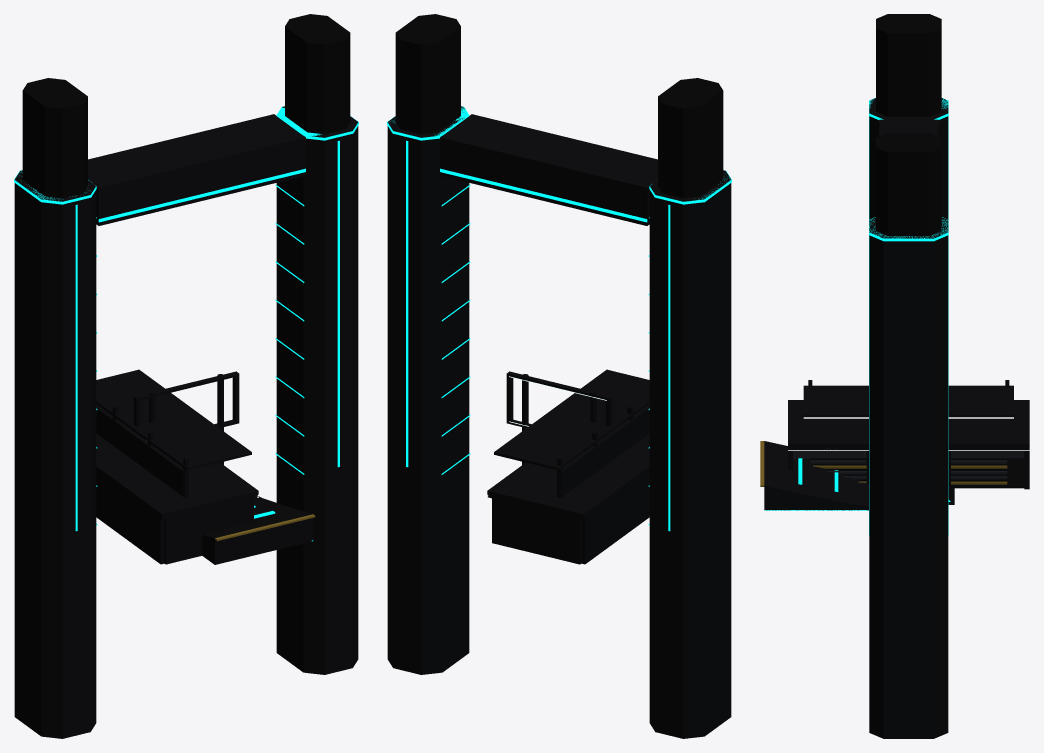
File: shaddai_race_extras_v01.glb
The picture shows the model from 3 angles, left to right: view 1: azimuth 30°, elevation 25°; view 2: azimuth 150°, elevation 25°; view 3: azimuth 270°, elevation 25°; orthographic projection. The views are drawn at different scales.
Parts seen in each view (by area): view 1: race_gate_tower, race_pit_garage, race_grandstand, race_jump_ramp, race_holo_billboard; view 2: race_gate_tower, race_pit_garage, race_grandstand, race_holo_billboard; view 3: race_gate_tower, race_pit_garage, race_grandstand, race_jump_ramp.
Boxes of the visible parts, <box> form: race_gate_tower: <box>14,14,358,738</box>; race_pit_garage: <box>96,404,258,564</box>; race_grandstand: <box>96,369,251,497</box>; race_jump_ramp: <box>202,496,315,564</box>; race_holo_billboard: <box>133,371,239,464</box>; race_gate_tower: <box>387,14,731,738</box>; race_pit_garage: <box>487,404,649,564</box>; race_grandstand: <box>494,369,649,497</box>; race_holo_billboard: <box>506,371,612,464</box>; race_gate_tower: <box>869,14,948,738</box>; race_pit_garage: <box>788,400,1029,489</box>; race_grandstand: <box>803,380,1013,488</box>; race_jump_ramp: <box>760,441,868,510</box>.
Bounding box in the file's own units: 52 × 98 × 41.
